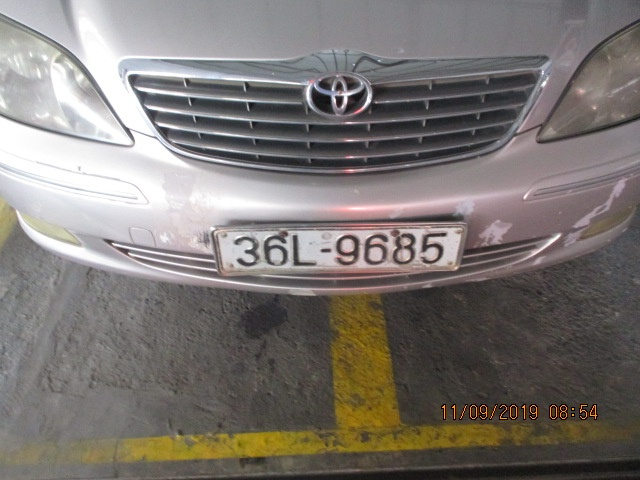number_plate: (228, 232, 454, 267)
